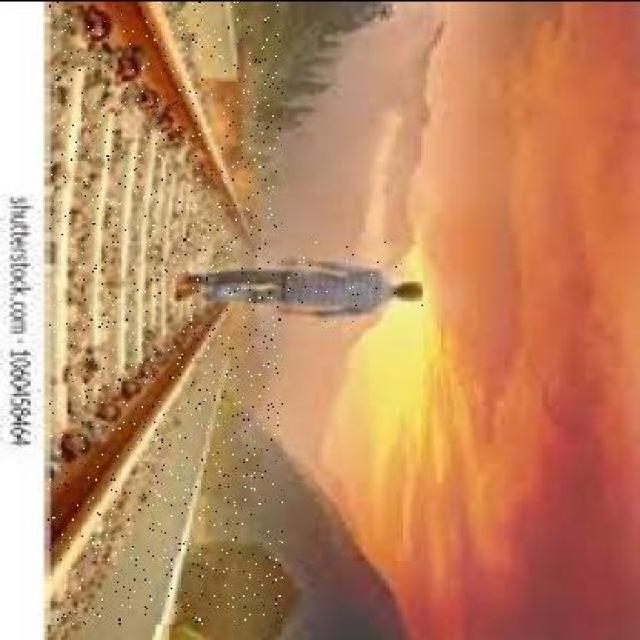rail: (49, 2, 283, 624)
